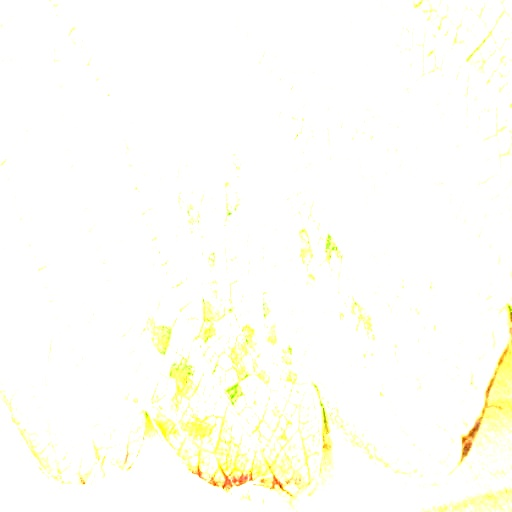Angular Leafspot: (37, 140, 511, 511)
